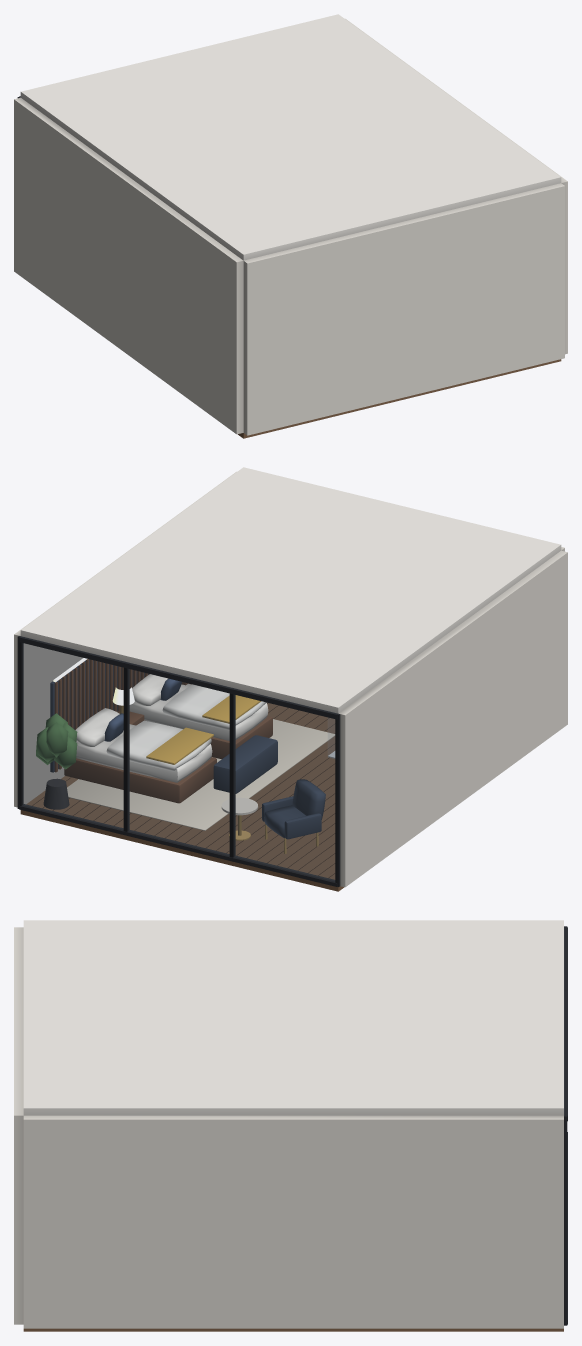
File: tk-twin.glb
3 views of the same model, one above another, from view 1: azimuth 30°, elevation 25°; view 2: azimuth 150°, elevation 25°; view 3: azimuth 270°, elevation 25° (orthographic). The views are drawn at different scales.
Visible parts, largest first — view 1: Room_wall, Room_ceiling, Room_floor; view 2: Room_ceiling, Room_glass, Room_wall, Room_floor, Room_frameDark, Room_wood, Room_rug, Room_linen, Room_fabric2, Room_duvet, Room_throw, Room_leaf (+4 smaller); view 3: Room_wall, Room_ceiling, Room_floor, Room_frameDark.
Part boxes in pixels (x1,y1,x2,y2): Room_wall: (14, 18, 567, 435); Room_ceiling: (20, 14, 561, 260); Room_floor: (238, 359, 561, 438); Room_ceiling: (20, 467, 561, 713); Room_glass: (23, 644, 334, 880); Room_wall: (14, 471, 567, 887); Room_floor: (20, 702, 343, 891); Room_frameDark: (17, 636, 340, 886); Room_wood: (54, 659, 272, 803); Room_rug: (67, 719, 335, 830); Room_linen: (75, 674, 268, 782); Room_fabric2: (213, 735, 325, 839); Room_duvet: (106, 684, 266, 770); Room_throw: (146, 695, 261, 764); Room_leaf: (36, 713, 77, 769); Room_wall: (14, 927, 563, 1328); Room_ceiling: (23, 920, 563, 1115); Room_floor: (23, 1328, 563, 1331); Room_frameDark: (564, 926, 567, 1325).
Bounding box in the file's own units: 5.84 × 3.1 × 6.97.
